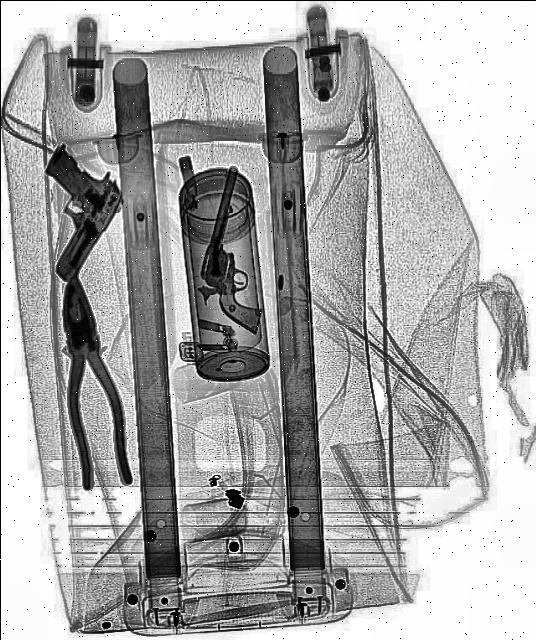Gun: (2, 138, 130, 286), (189, 161, 291, 329)
Pliers: (41, 268, 135, 494)
